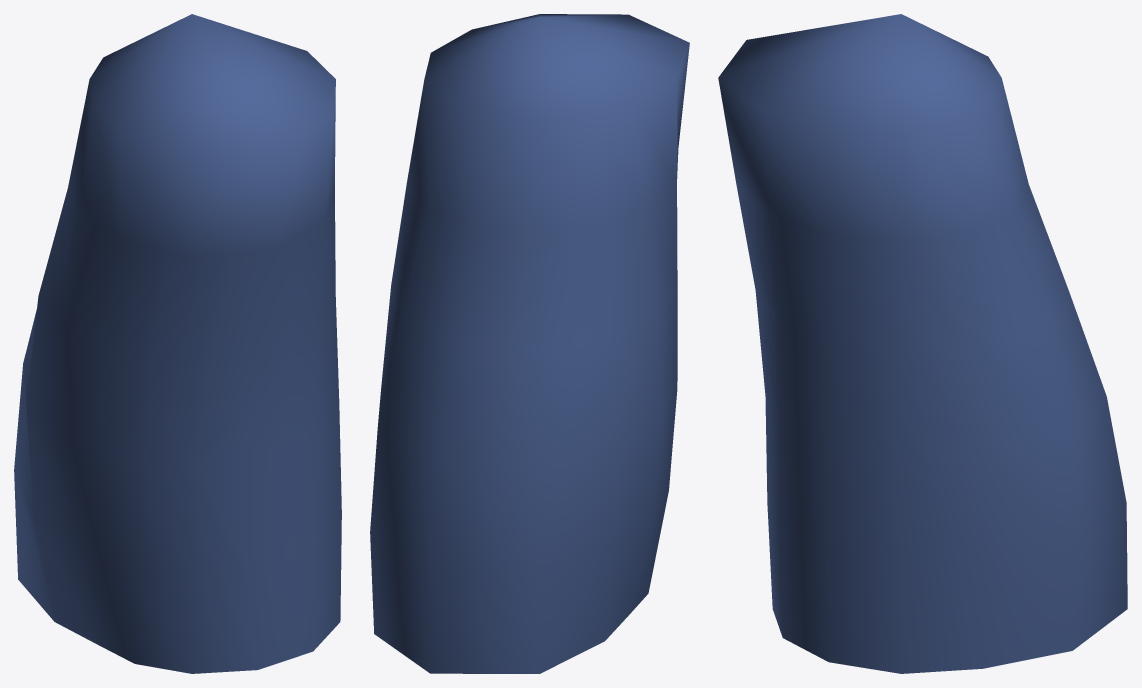
Rendered from spectre_armor_boot.R.glb.
3 views of the same model, side by side, from view 1: azimuth 30°, elevation 25°; view 2: azimuth 150°, elevation 25°; view 3: azimuth 270°, elevation 25° (orthographic). The views are drawn at different scales.
Visible parts, largest first — view 1: spectre_armor_boot.R; view 2: spectre_armor_boot.R; view 3: spectre_armor_boot.R.
Boxes of the visible parts, x1,y1,x2,y2 form: spectre_armor_boot.R: [14, 14, 341, 673]; spectre_armor_boot.R: [370, 14, 689, 673]; spectre_armor_boot.R: [718, 14, 1127, 673].
Bounding box in the file's own units: 0.1312 × 0.288 × 0.1796.
